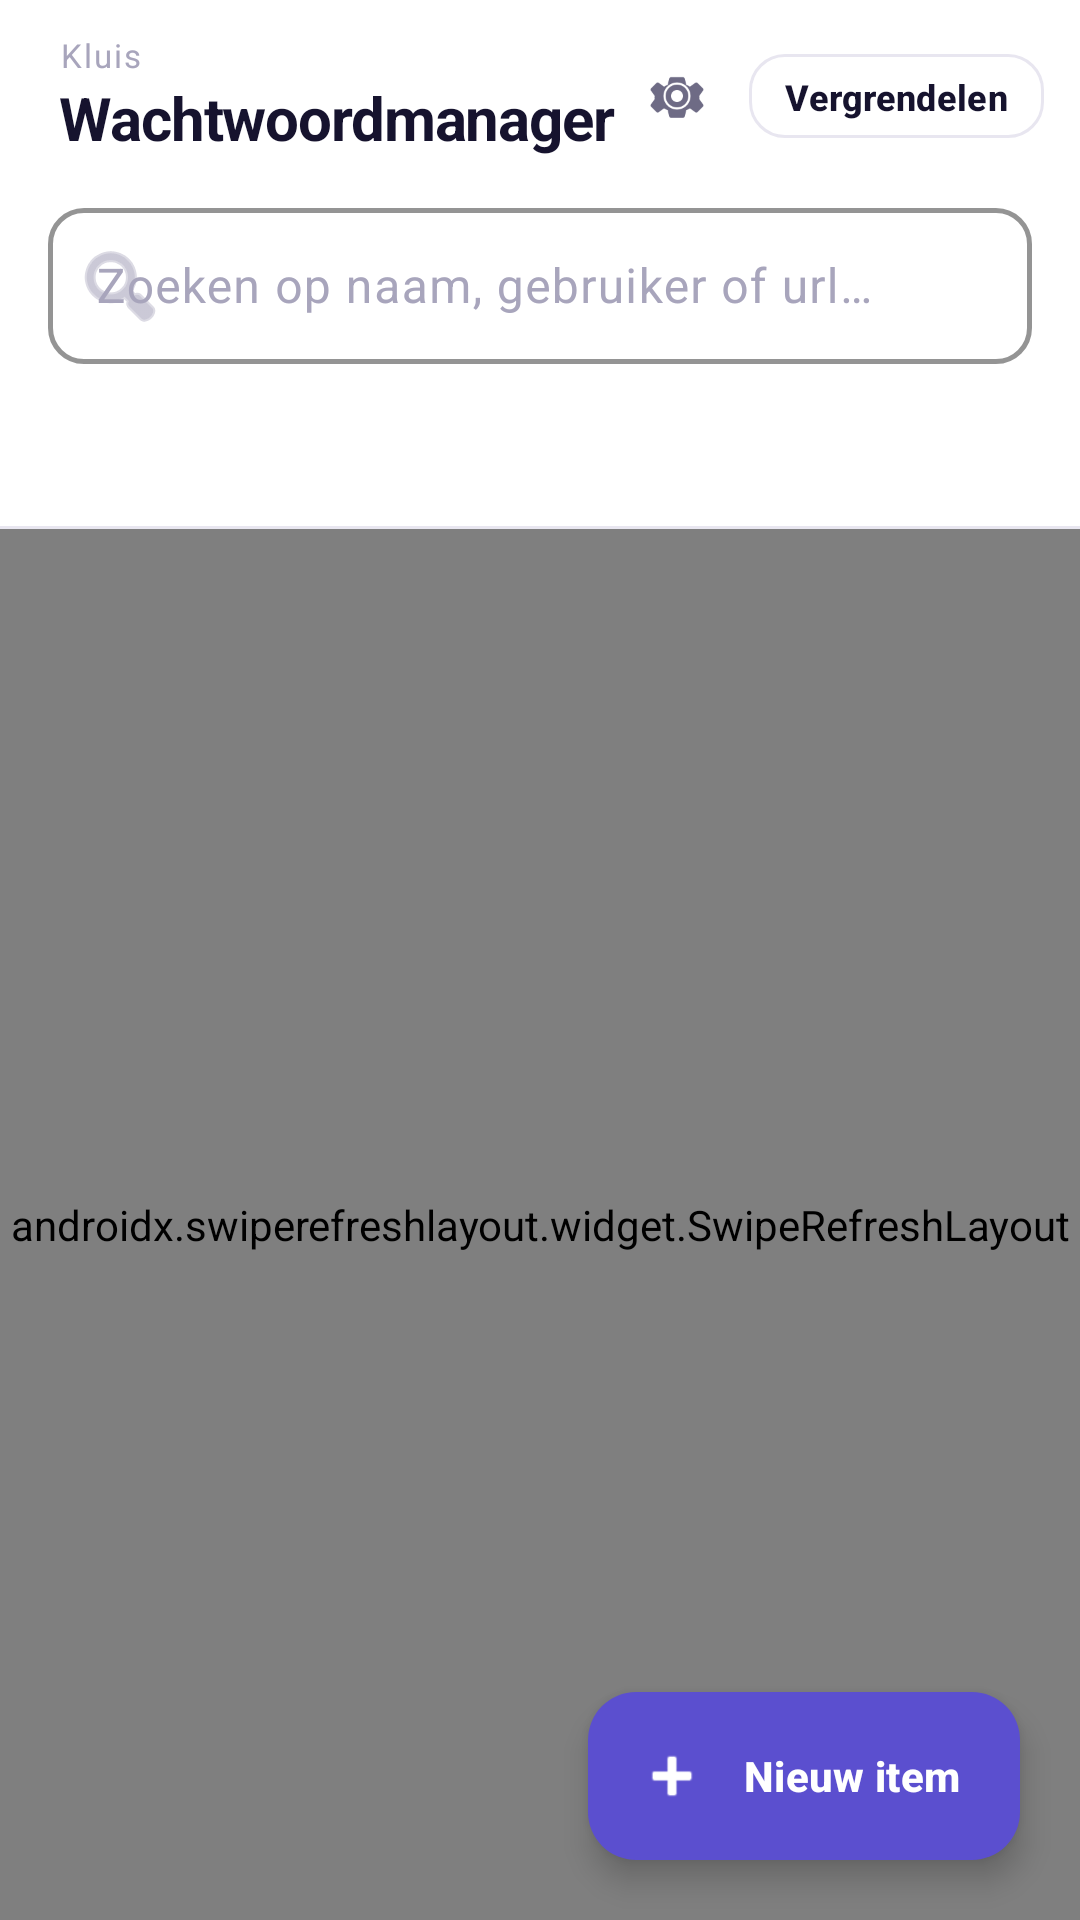

Named icons in this screenshot (1080 x 1920) and their centers, (x=x, y=y):
Instellingen: (x=677, y=97)
